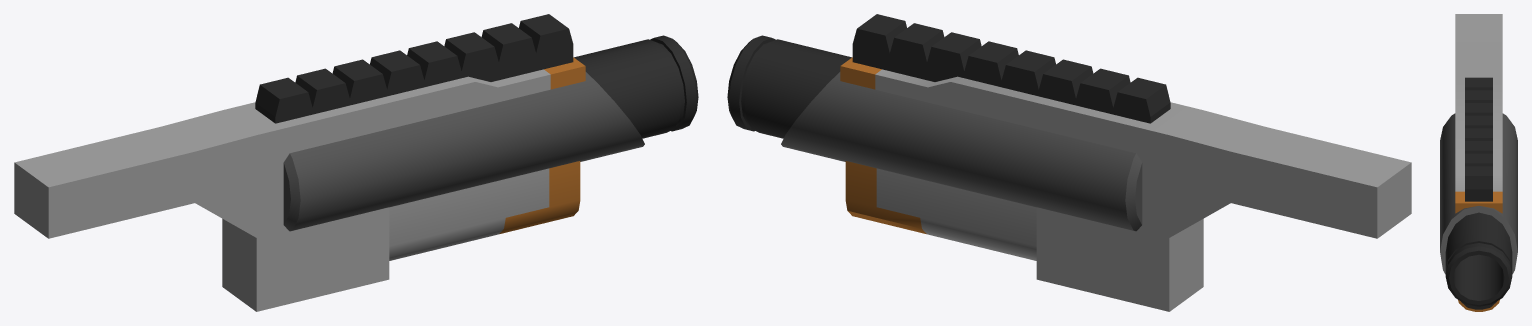
File: Barrel_Grenade_1.glb
The picture shows the model from 3 angles, left to right: view 1: azimuth 30°, elevation 25°; view 2: azimuth 150°, elevation 25°; view 3: azimuth 270°, elevation 25°; orthographic projection. The views are drawn at different scales.
Visible parts, largest first — view 1: Barrel_Grenade_1; view 2: Barrel_Grenade_1; view 3: Barrel_Grenade_1.
Boxes of the visible parts, x1,y1,x2,y2 form: Barrel_Grenade_1: [14, 14, 698, 311]; Barrel_Grenade_1: [727, 14, 1411, 311]; Barrel_Grenade_1: [1440, 14, 1517, 311].
Size of the model in its own units: 0.9726 by 0.2883 by 0.1459.
